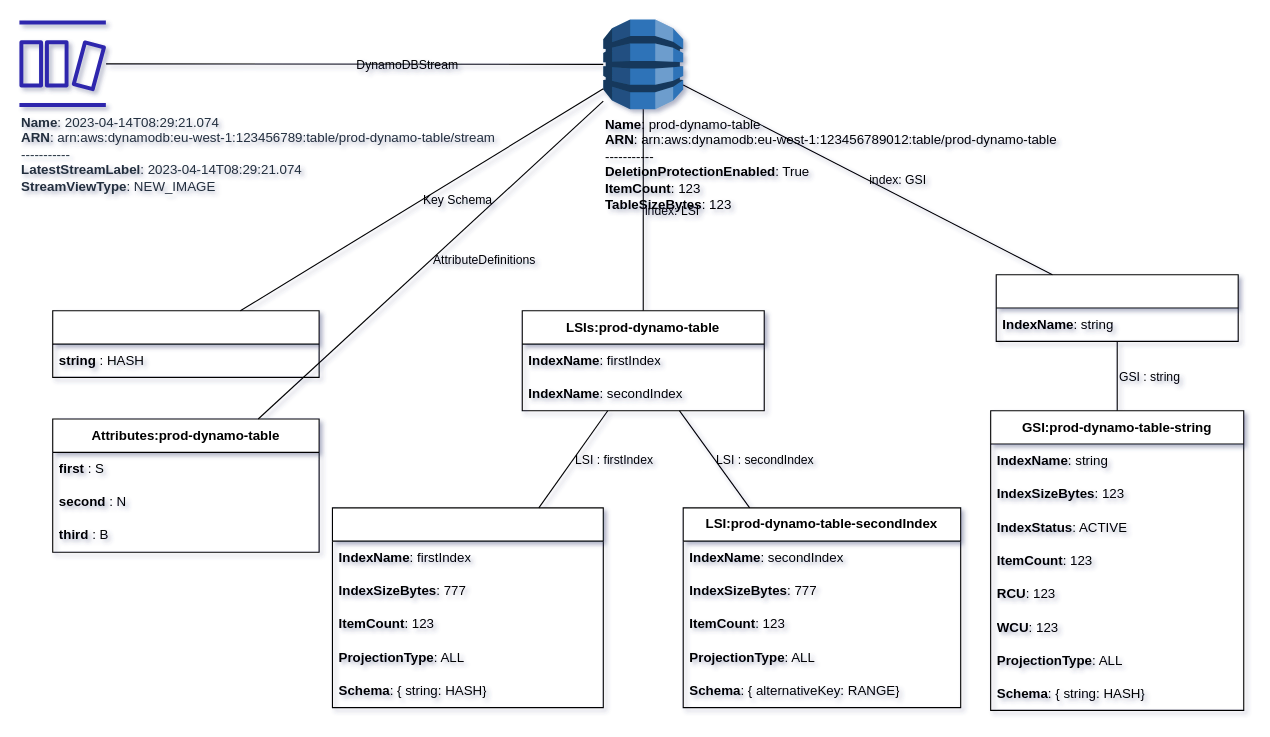
This 1270x737 diagram has some shape labels left out. Each missing label, with the box of its shape:
GSIs:prod-dynamo-table: (995, 274, 1238, 341)
LSI:prod-dynamo-table-firstIndex: (331, 507, 603, 708)
Schema:prod-dynamo-table: (52, 310, 319, 377)
